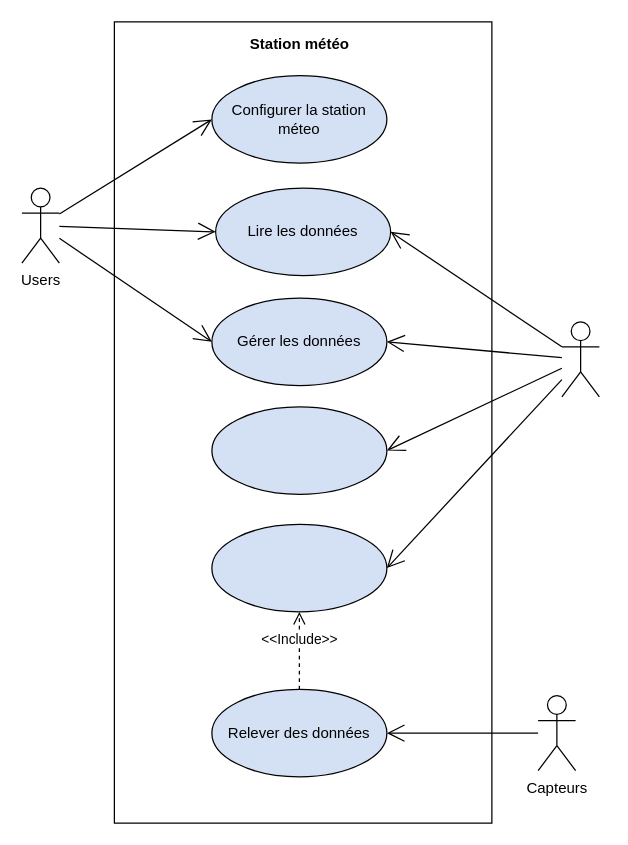
Some shapes in this 628 by 845 pixel diagram are drawn without their labels. The shapes that lost their labels are listed below. From the top down, each one's centre as x and y in pixels, then its label:
(x=580, y=359): Arduino
(x=299, y=450): Enregistrer des données
(x=299, y=567): Mettre en forme des données
